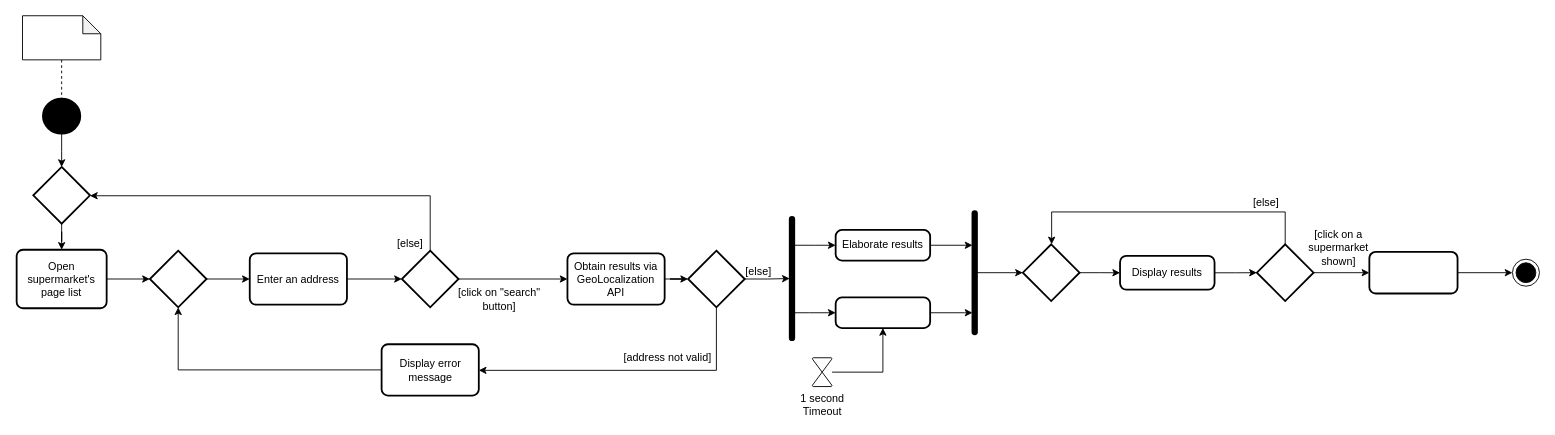
This 1555x435 diagram has some shape labels left out. Here are the shapes that lost their labels. From the top down, the centre of each, then its label:
the point at 61,37: Show Nearest Supermarket
the point at 1413,272: Notify that a supermarket is chosen
the point at 882,312: Display loading screen
